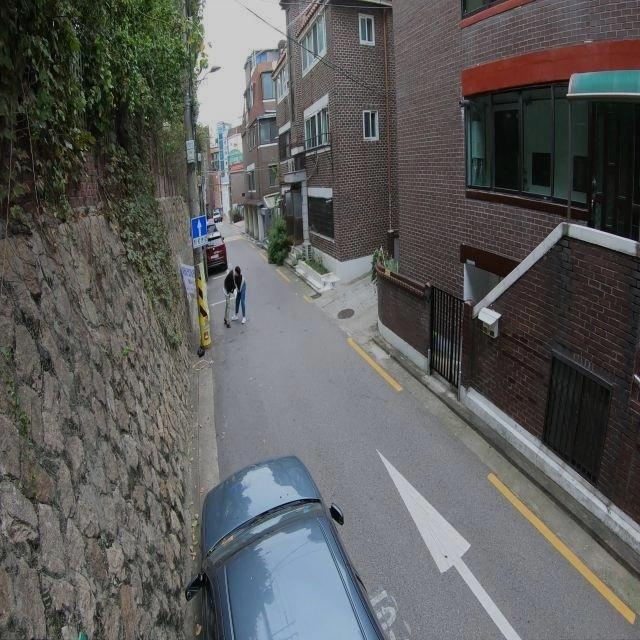fight: (222, 263, 249, 327)
